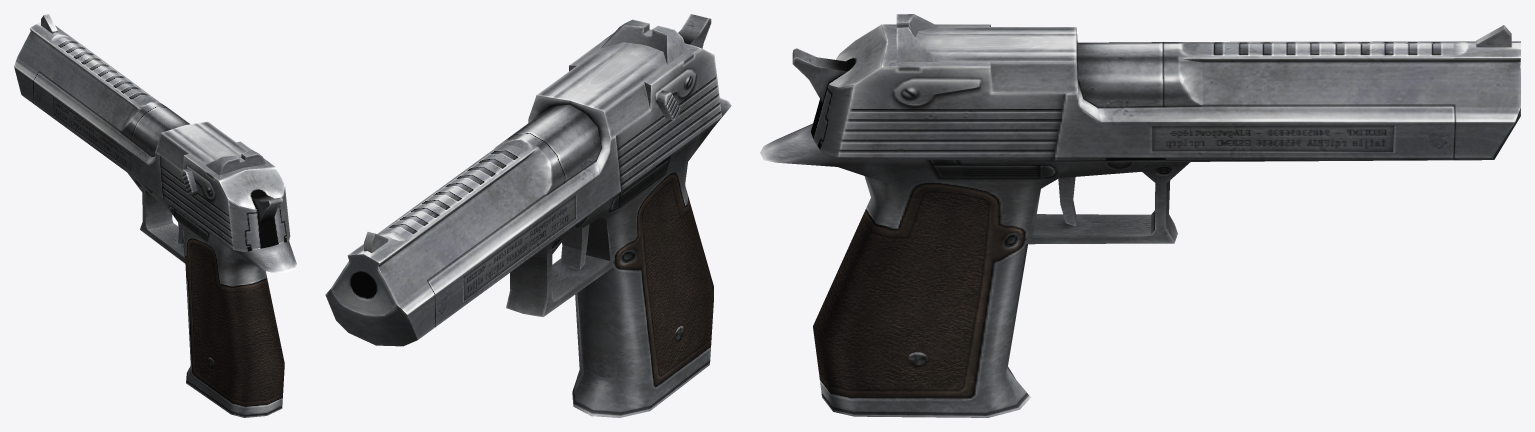
Rendered from Handgun.fbx.
The picture shows the model from 3 angles, left to right: view 1: azimuth 30°, elevation 25°; view 2: azimuth 150°, elevation 25°; view 3: azimuth 270°, elevation 25°; orthographic projection. The views are drawn at different scales.
Parts seen in each view (by area): view 1: Gun; view 2: Gun; view 3: Gun.
Boxes of the visible parts, bbox=[...] form: Gun: bbox=[14, 14, 296, 417]; Gun: bbox=[325, 14, 731, 417]; Gun: bbox=[760, 14, 1520, 417].
Bounding box in the file's own units: 3.65 × 13.31 × 24.65.
